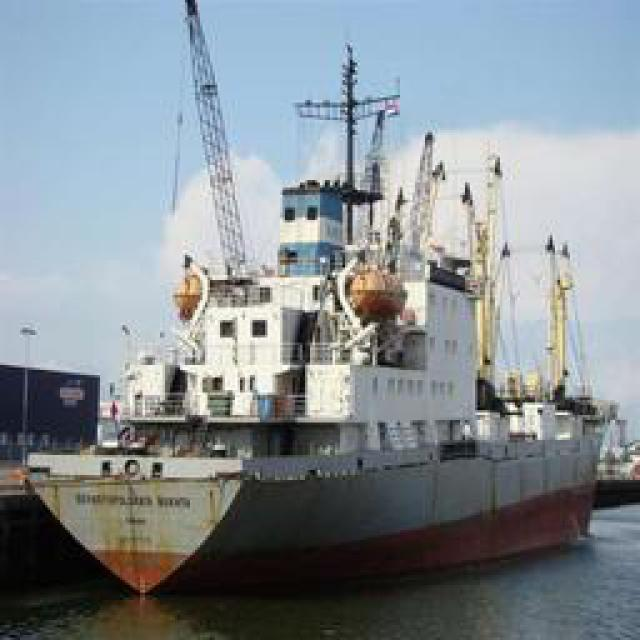Ship: (25, 1, 603, 601)
